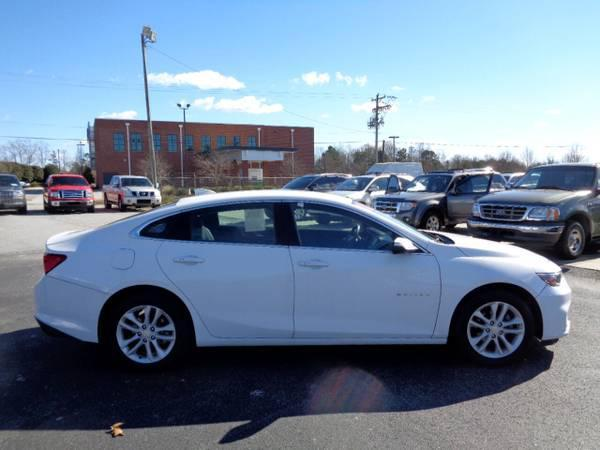Front_Bumper: (537, 284, 573, 342)
Front_Fender: (434, 248, 548, 347)
Front_Right_Door: (293, 249, 445, 345)
Front_Right_Window: (288, 202, 434, 255)
Hood: (434, 231, 556, 271)
Rear_Bumper: (32, 276, 111, 344)
Rear_Fender: (44, 229, 161, 294)
Rear_Right_Door: (157, 243, 296, 350)
Rear_Right_Window: (138, 202, 292, 250)
Right_Headlight: (540, 270, 569, 285)
Right_Taillight: (43, 254, 65, 276)
Roof: (103, 191, 443, 251)
Wheel: (108, 292, 189, 369), (458, 290, 538, 363)
